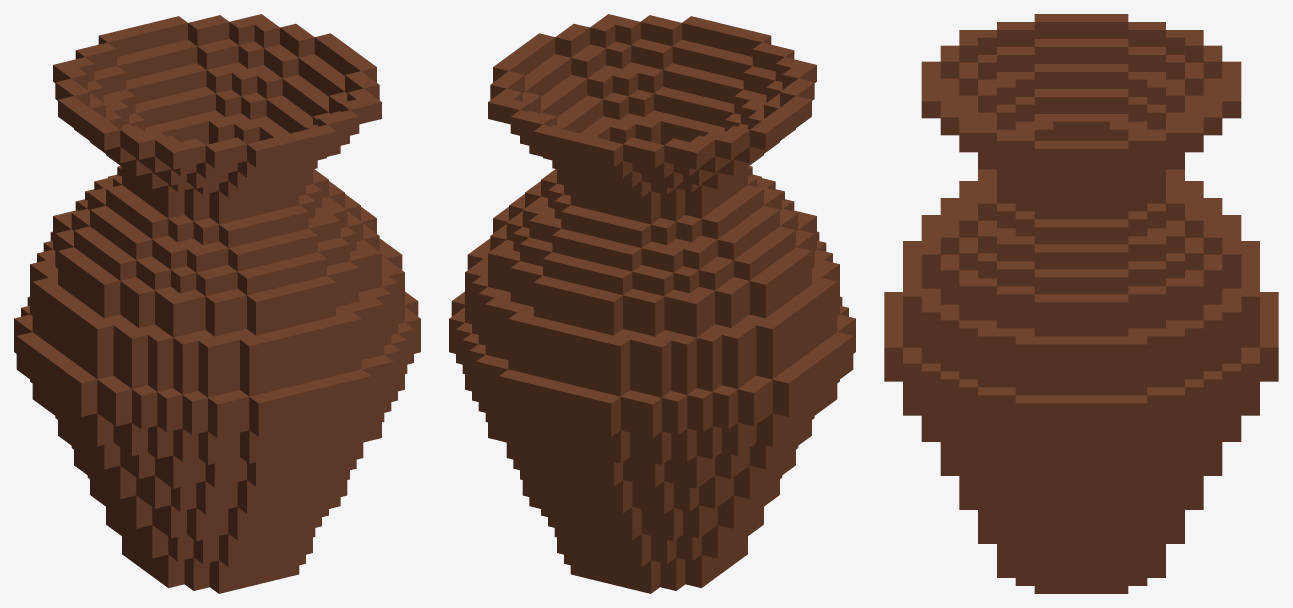
The model's file is Vase 3.obj.
The picture shows the model from 3 angles, left to right: view 1: azimuth 30°, elevation 25°; view 2: azimuth 150°, elevation 25°; view 3: azimuth 270°, elevation 25°; orthographic projection.
Visible parts, largest first — view 1: Vase 3; view 2: Vase 3; view 3: Vase 3.
Boxes of the visible parts, bbox=[...] form: Vase 3: bbox=[14, 14, 420, 593]; Vase 3: bbox=[449, 14, 855, 593]; Vase 3: bbox=[884, 14, 1278, 593].
Size of the model in its own units: 21 by 28 by 21.
Materials: 1 (1 with a texture image).
